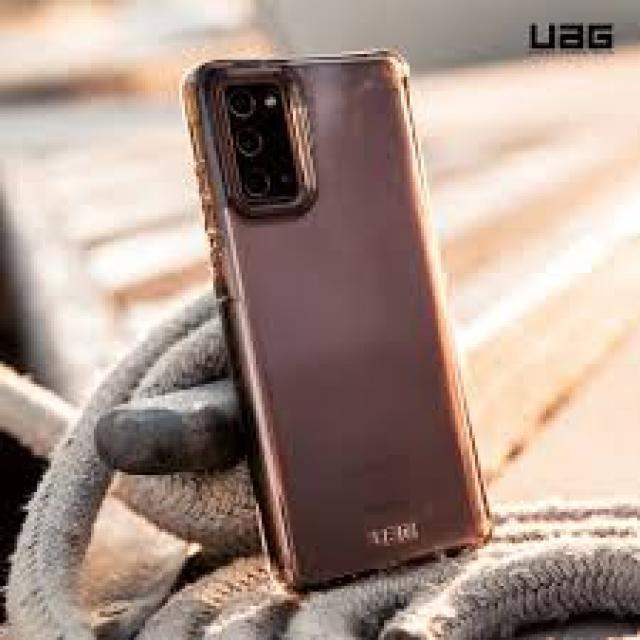lens: (220, 80, 310, 201)
phone: (178, 41, 494, 596)
